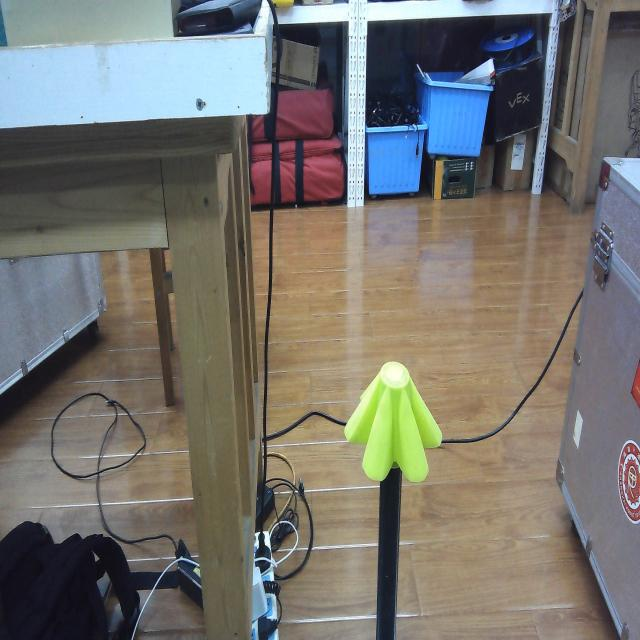Yellow-Stake-Head: (344, 361, 443, 483)
